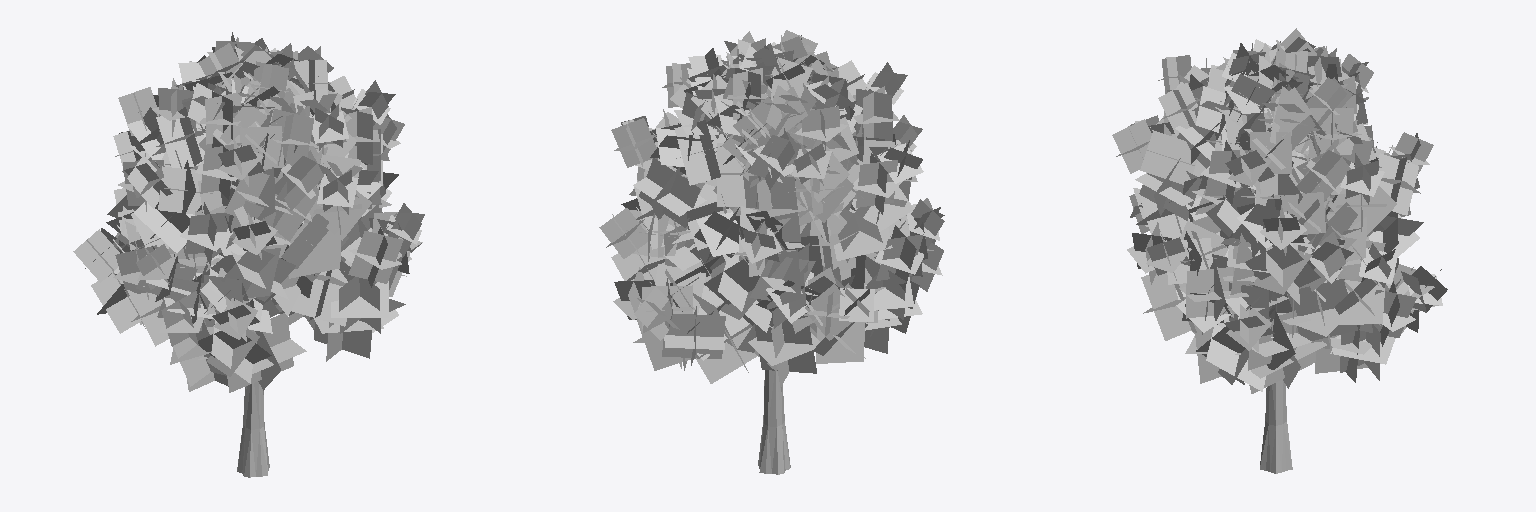
File: tree2.obj
3 renders of one model, left to right at view 1: azimuth 30°, elevation 25°; view 2: azimuth 150°, elevation 25°; view 3: azimuth 270°, elevation 25°, orthographic.
Visible parts, largest first — view 1: tree6_leaves_0, tree6_bark_0; view 2: tree6_leaves_0, tree6_bark_0; view 3: tree6_leaves_0, tree6_bark_0.
Part boxes in pixels (x1,y1,x2,y2): tree6_leaves_0: (73,32,424,392); tree6_bark_0: (112,99,396,477); tree6_leaves_0: (599,30,944,387); tree6_bark_0: (636,63,906,474); tree6_leaves_0: (1112,28,1447,393); tree6_bark_0: (1150,98,1413,473).
Bounding box in the file's own units: 20.76 × 28.39 × 20.36.